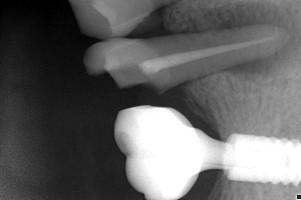Furcation Involvement: (175, 0, 300, 79)
